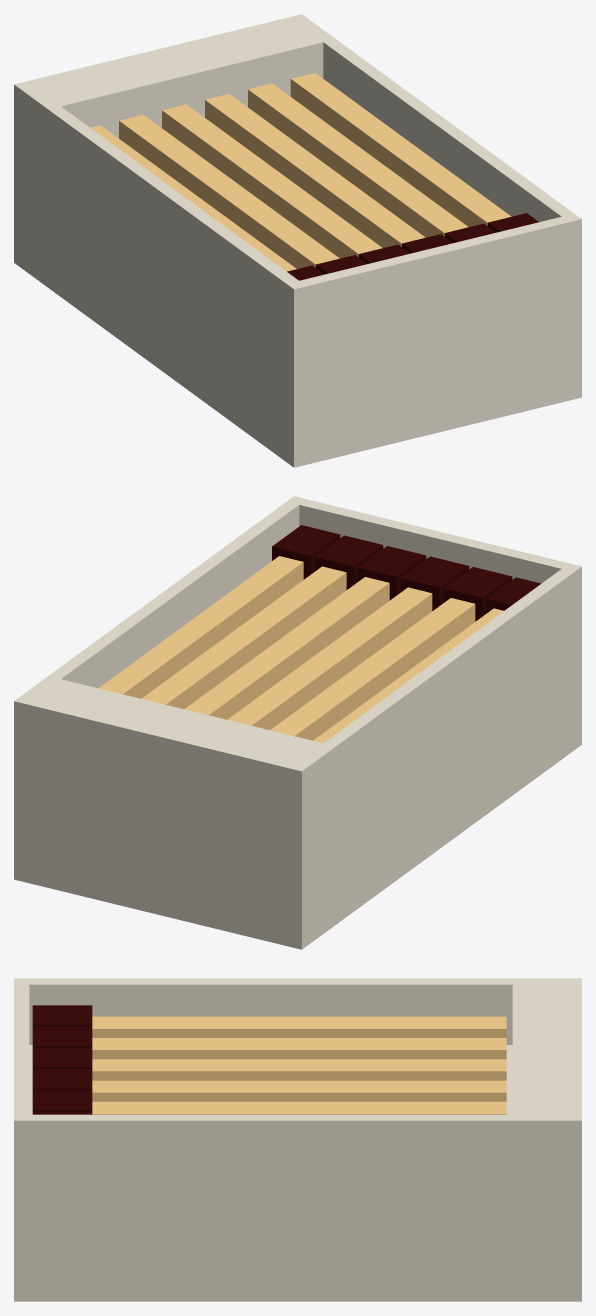
Rendered from matches.glb.
3 views of the same model, one above another, from view 1: azimuth 30°, elevation 25°; view 2: azimuth 150°, elevation 25°; view 3: azimuth 270°, elevation 25° (orthographic).
Visible parts, largest first — view 1: SCP_Matches_p2.001_PandaMat_0; view 2: SCP_Matches_p2.001_PandaMat_0; view 3: SCP_Matches_p2.001_PandaMat_0.
Part boxes in pixels (x1,y1,x2,y2): SCP_Matches_p2.001_PandaMat_0: [14, 14, 581, 467]; SCP_Matches_p2.001_PandaMat_0: [14, 496, 581, 949]; SCP_Matches_p2.001_PandaMat_0: [14, 978, 581, 1301].
Bounding box in the file's own units: 0.1358 × 0.0804 × 0.2288.
Materials: 1 (1 with a texture image).
